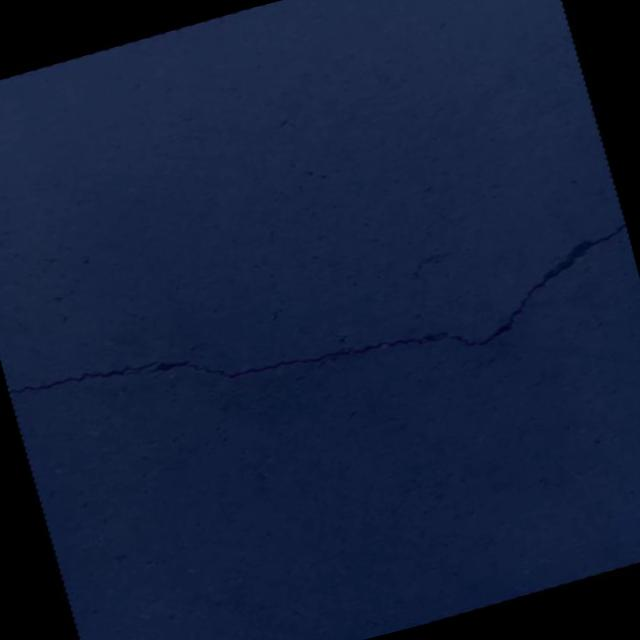crack: (2, 212, 640, 474)
